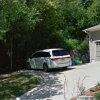Car: (20, 44, 77, 76)
